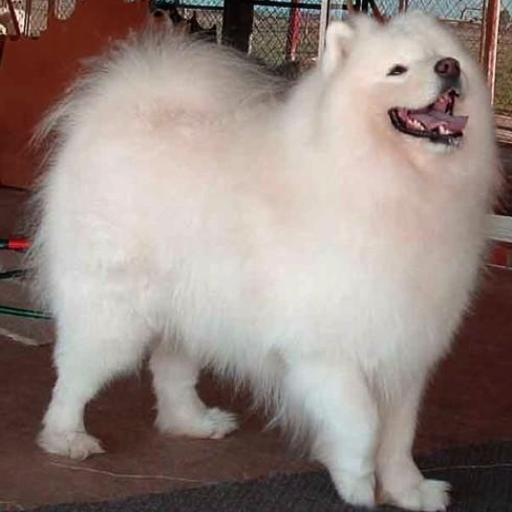dog_face: (324, 13, 481, 161)
